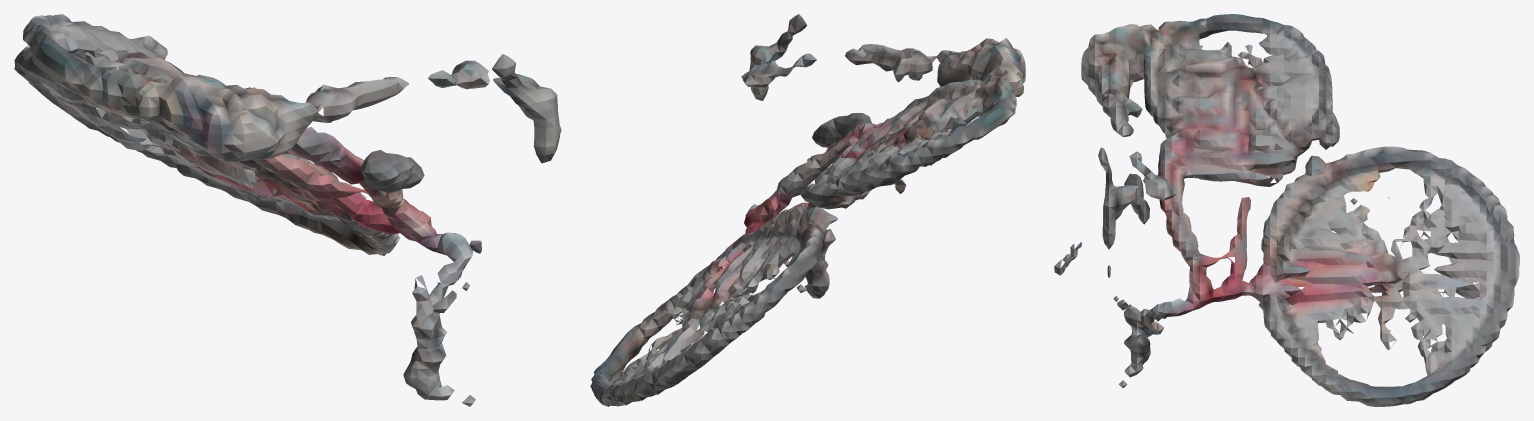
The model's file is 000001_bicycle_sport_bike_10240_128.glb.
3 renders of one model, left to right at view 1: azimuth 30°, elevation 25°; view 2: azimuth 150°, elevation 25°; view 3: azimuth 270°, elevation 25°, orthographic. The views are drawn at different scales.
Visible parts, largest first — view 1: world; view 2: world; view 3: world.
Boxes of the visible parts, x1,y1,x2,y2 form: world: [14, 14, 561, 406]; world: [590, 14, 1025, 406]; world: [1054, 14, 1519, 406].
Size of the model in its own units: 0.66 by 0.5838 by 0.9121.
